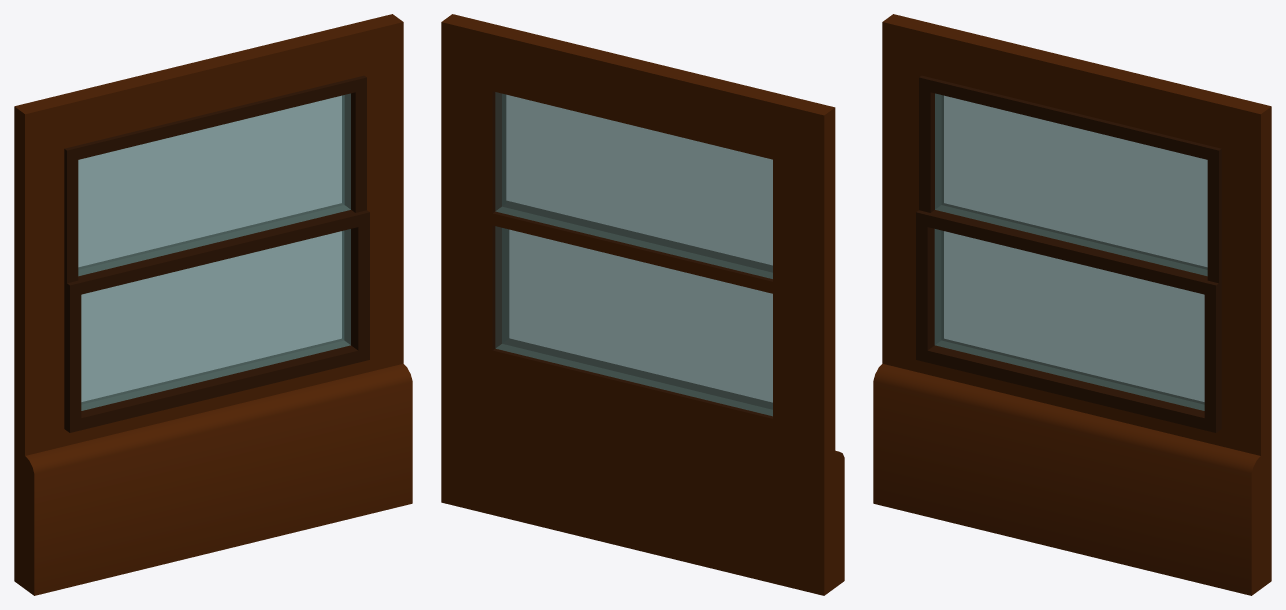
The model's file is fenêtre.fbx.
The picture shows the model from 3 angles, left to right: view 1: azimuth 30°, elevation 25°; view 2: azimuth 150°, elevation 25°; view 3: azimuth 330°, elevation 25°; orthographic projection.
Visible parts, largest first — view 1: Box111; view 2: Box111; view 3: Box111.
Boxes of the visible parts, x1,y1,x2,y2 form: Box111: (14, 14, 412, 595); Box111: (441, 14, 844, 595); Box111: (873, 14, 1271, 595).
Bounding box in the file's own units: 161 × 193 × 14.84.
